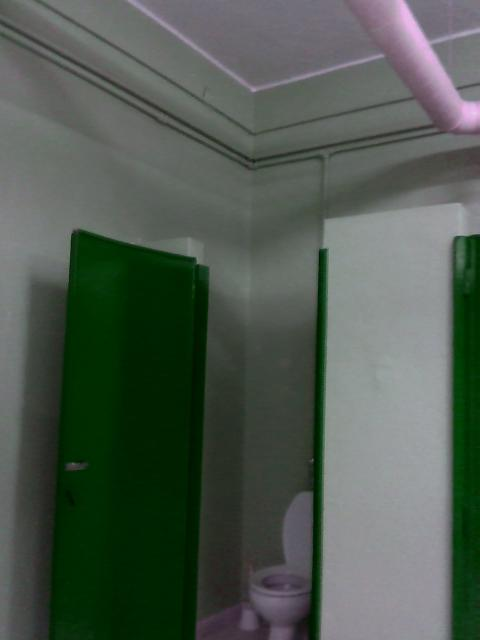open_door: (184, 215, 323, 639)
